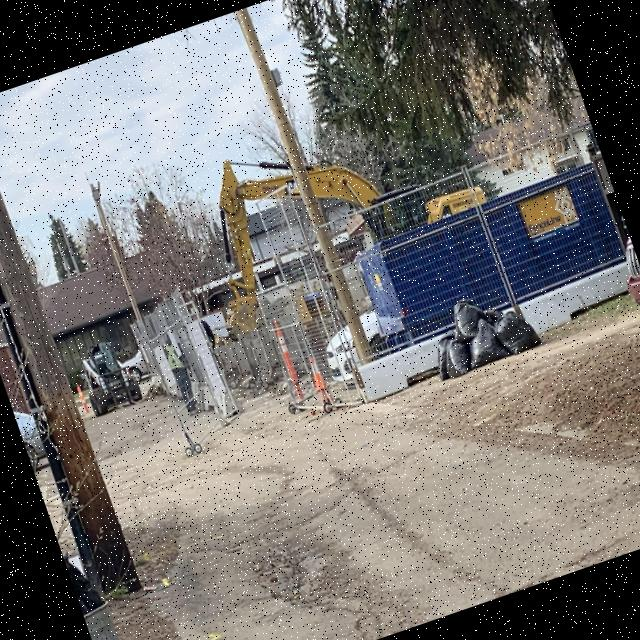Excavator: (172, 76, 503, 338)
Loader: (72, 332, 144, 418)
